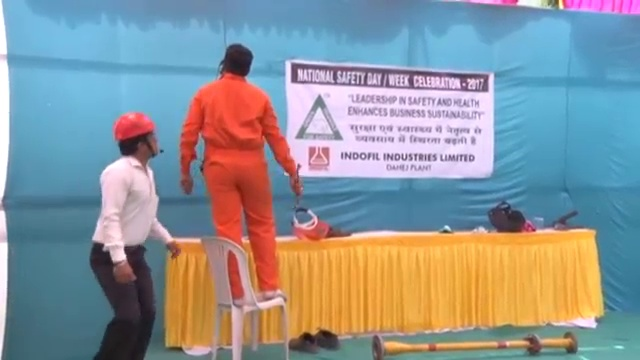helmet: (112, 111, 156, 142)
helmet_off: (216, 40, 254, 81)
helmet_on: (111, 109, 163, 161)
person: (171, 39, 305, 304), (80, 108, 182, 360)
